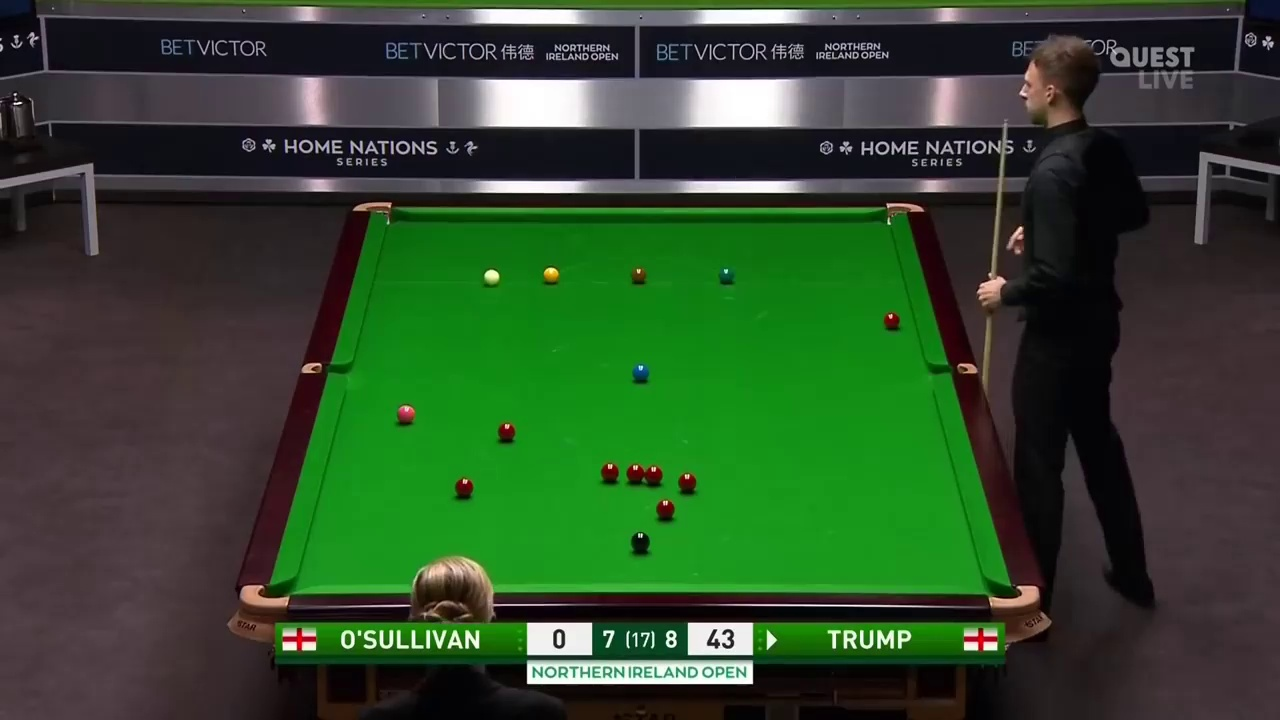black: (631, 534, 649, 551)
blue: (632, 364, 650, 383)
brown: (632, 268, 646, 281)
green: (720, 267, 736, 282)
pink: (399, 403, 414, 423)
red: (643, 463, 664, 486), (454, 478, 475, 499), (599, 463, 620, 482), (884, 309, 900, 330), (657, 500, 675, 518), (497, 424, 516, 441), (679, 475, 697, 492), (627, 463, 640, 483)
white: (483, 269, 501, 284)
yellow: (543, 267, 560, 283)
